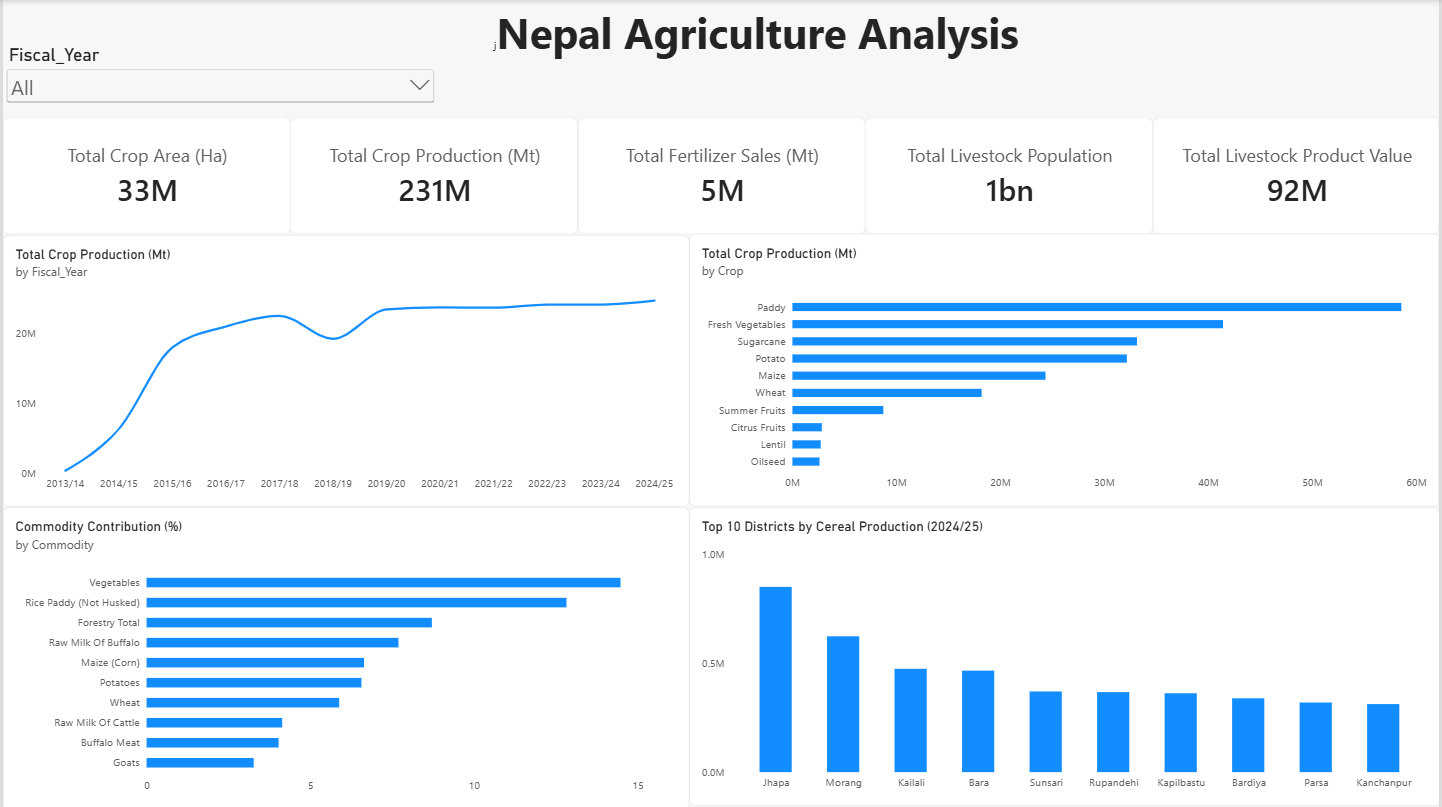

Layout of this report page (visuals, bound fields, positions):
{"tool":"powerbi","page":{"name":"Agriculture Overview","canvas":[1920,1080],"ordinal":1},"visuals":[{"type":"cardVisual","fields":{"Data":["_Measures.Total Crop Area (Ha)","_Measures.Total Crop Production (Mt)","_Measures.Total Fertilizer Sales (Mt)","_Measures.Total Livestock Population","_Measures.Total Livestock Product Value"]},"box":[0,156.5,1920.4,156.5],"z":0},{"type":"slicer","fields":{"Values":["Dim_Fiscal_Year.Fiscal_Year"]},"box":[0,57.9,580.9,97.7],"z":1000},{"type":"lineChart","fields":{"Category":["Agriculture_Crop_Production_Yearly.Fiscal_Year"],"Y":["_Measures.Total Crop Production (Mt)"]},"box":[0,313.9,917,363.3],"z":2000},{"type":"clusteredBarChart","fields":{"Y":["_Measures.Total Crop Production (Mt)"],"Category":["Agriculture_Crop_Production_Yearly.Crop"]},"box":[917.5,313.1,1002.6,363.7],"z":3000},{"type":"clusteredBarChart","fields":{"Category":["Agriculture_GDP_Commodity_Contribution.Commodity"],"Y":["_Measures.Commodity Contribution (%)"]},"box":[0,677.9,917,402.9],"z":4000},{"type":"clusteredColumnChart","title":"Top 10 Districts by Cereal Production (2024/25)","fields":{"Category":["Cereal_Production_by_District_2024/25.District"],"Y":["_Measures.District Cereal Production (Mt)"]},"box":[916.7,677.9,1003.9,398.3],"z":5000},{"type":"textbox","box":[580.9,5.4,850.5,150.2],"z":6000}]}

Visuals, with their boxes in screenshot pixels (x1, y1, x2, y2), scaled from the page's 1920x1080 canvas onto the 1442x807 screenshot:
cardVisual - _Measures.Total Crop Area (Ha) x _Measures.Total Crop Production (Mt): box(0, 117, 1441, 234)
slicer - Dim_Fiscal_Year.Fiscal_Year: box(0, 43, 436, 116)
lineChart - Agriculture_Crop_Production_Yearly.Fiscal_Year x _Measures.Total Crop Production (Mt): box(0, 235, 689, 506)
clusteredBarChart - _Measures.Total Crop Production (Mt) x Agriculture_Crop_Production_Yearly.Crop: box(689, 234, 1441, 506)
clusteredBarChart - Agriculture_GDP_Commodity_Contribution.Commodity x _Measures.Commodity Contribution (%): box(0, 507, 689, 806)
"Top 10 Districts by Cereal Production (2024/25)" clusteredColumnChart: box(688, 507, 1441, 804)
textbox: box(436, 4, 1075, 116)
